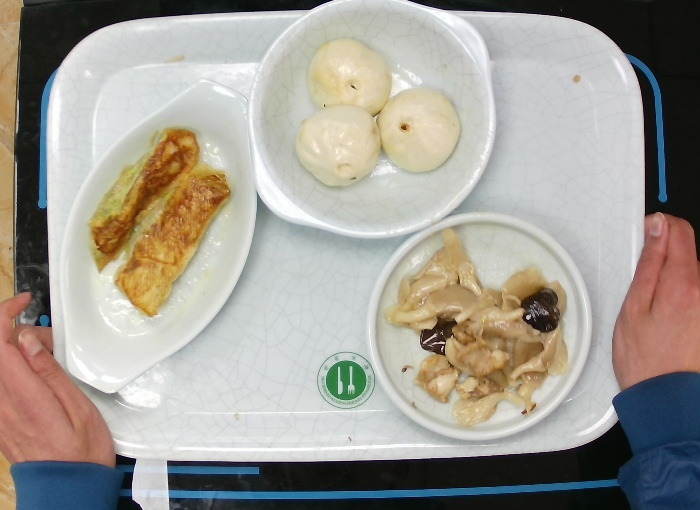JYsf-Shuang_Er_Wan: (243, 1, 500, 243)
JYsf-Xiao_Yuan_Pan: (364, 208, 597, 445)
JYsf-Yu_Pan: (55, 75, 266, 399)
